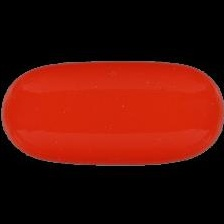63304-240: (0, 0, 224, 224)
